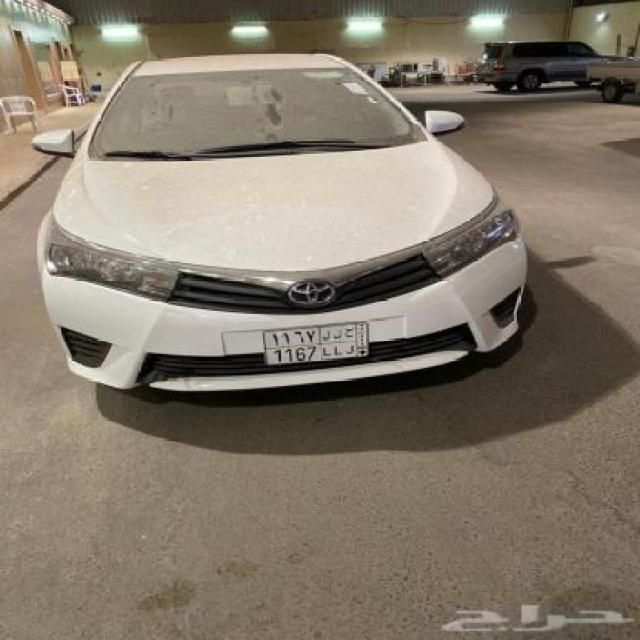license_plate: (260, 318, 374, 369)
